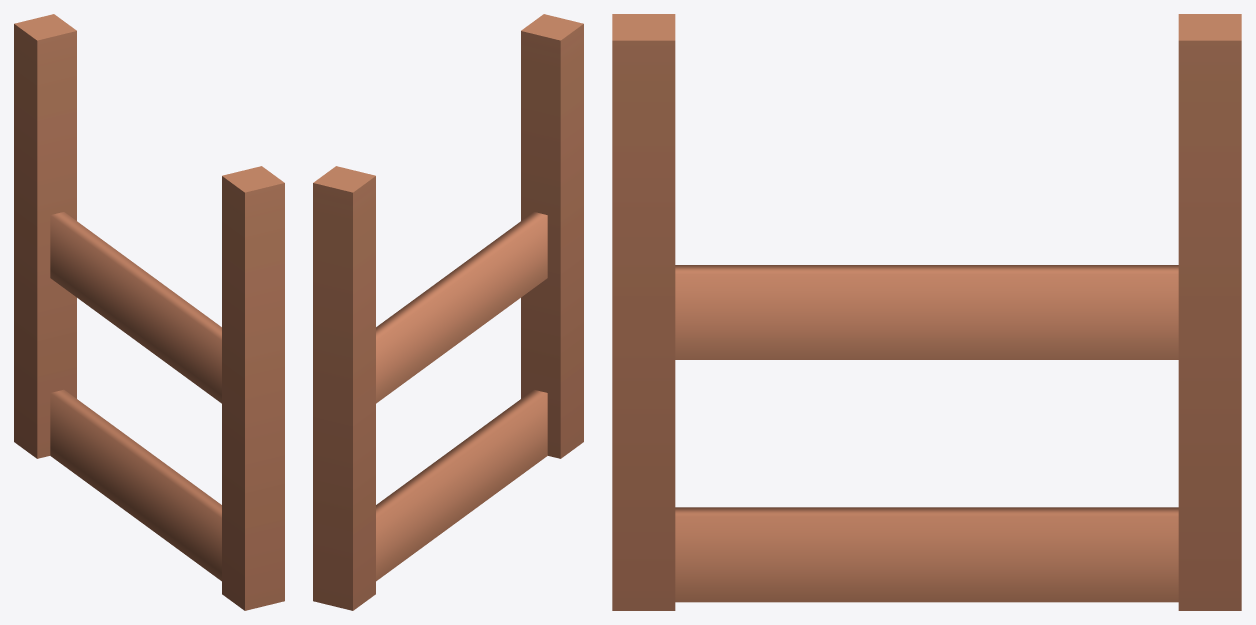
The model's file is poles-horizontal.glb.
3 renders of one model, left to right at view 1: azimuth 30°, elevation 25°; view 2: azimuth 150°, elevation 25°; view 3: azimuth 270°, elevation 25°, orthographic. The views are drawn at different scales.
Parts seen in each view (by area): view 1: poles-horizontal; view 2: poles-horizontal; view 3: poles-horizontal.
Part boxes in pixels (x1,y1,x2,y2): poles-horizontal: (14, 14, 284, 610); poles-horizontal: (313, 14, 583, 610); poles-horizontal: (612, 14, 1241, 610).
Bounding box in the file's own units: 0.1 × 1 × 1.
1 material, 1 textured.
